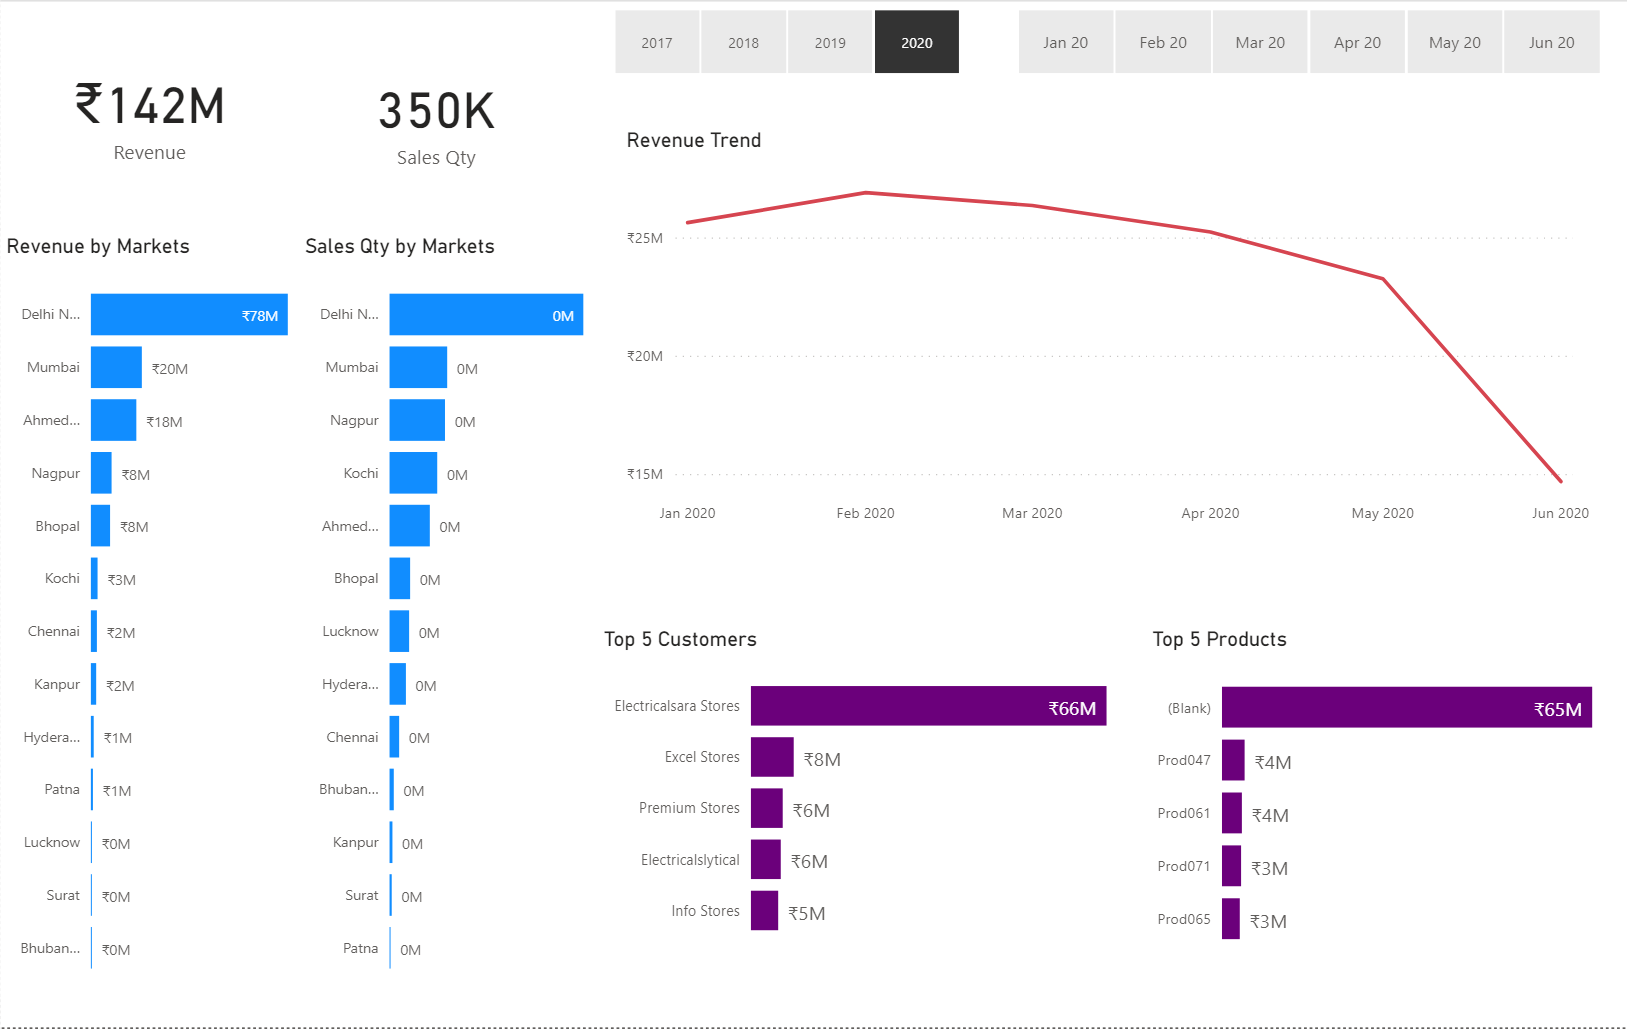

What the dashboard file says about the page in this screenshot:
{"tool":"powerbi","page":{"name":"Key Insights","canvas":[1350,850],"ordinal":0},"visuals":[{"type":"card","fields":{"Values":["BaseMeasures (2).Revenue"]},"box":[0,0,247.9,184.6],"z":0},{"type":"card","fields":{"Values":["BaseMeasures (2).Sales Qty"]},"box":[247.9,0,227.9,193.1],"z":1000},{"type":"barChart","title":"Revenue by Markets","fields":{"Y":["BaseMeasures (2).Revenue"],"Category":["sales markets.markets_name"]},"box":[0,193.1,247.9,631.9],"z":2000},{"type":"barChart","title":"Sales Qty by Markets","fields":{"Y":["BaseMeasures (2).Sales Qty"],"Category":["sales markets.markets_name"]},"box":[247.9,193.1,247.9,631.9],"z":3000},{"type":"slicer","fields":{"Values":["sales date.year"]},"box":[483.2,0,335.5,66.5],"z":4000},{"type":"slicer","fields":{"Values":["sales date.cy_date"]},"box":[818.6,0,531.7,66.5],"z":5000},{"type":"barChart","title":"Top 5 Customers","fields":{"Y":["BaseMeasures (2).Revenue"],"Category":["sales customers.custmer_name"]},"box":[495.8,519,446.2,274.3],"z":6000},{"type":"barChart","title":"Top 5 Products","fields":{"Y":["BaseMeasures (2).Revenue"],"Category":["sales products.product_code"]},"box":[950.7,519.2,399.5,282.8],"z":7000},{"type":"lineChart","title":"Revenue Trend","fields":{"Y":["BaseMeasures (2).Revenue"],"Category":["sales date.cy_date"]},"box":[513.8,104.4,809.1,338.6],"z":8000}]}

Visuals, with their boxes in screenshot pixels (x1, y1, x2, y2), scaled from the page's 1350x850 canvas onto the 1627x1029 screenshot:
card - BaseMeasures (2).Revenue: box=[0, 0, 299, 223]
card - BaseMeasures (2).Sales Qty: box=[299, 0, 573, 234]
"Revenue by Markets" barChart: box=[0, 234, 299, 999]
"Sales Qty by Markets" barChart: box=[299, 234, 598, 999]
slicer - sales date.year: box=[582, 0, 987, 81]
slicer - sales date.cy_date: box=[987, 0, 1626, 81]
"Top 5 Customers" barChart: box=[598, 628, 1135, 960]
"Top 5 Products" barChart: box=[1146, 629, 1626, 971]
"Revenue Trend" lineChart: box=[619, 126, 1594, 536]
